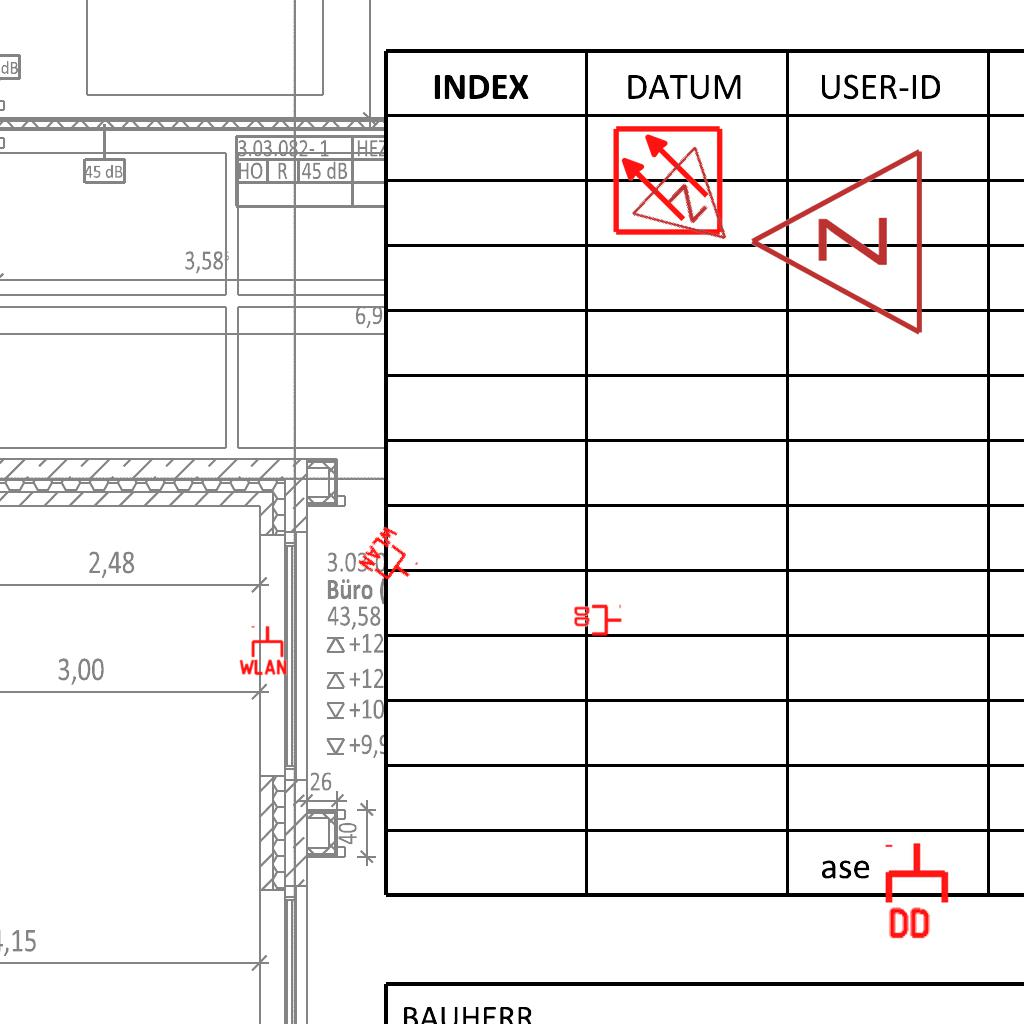Datenanschluss_zweifach: (884, 840, 953, 943), (572, 604, 623, 638)
RMO_Rauchmelder_optischer: (611, 124, 724, 237)
WLAN: (355, 521, 429, 595), (237, 624, 289, 676)
Zimmersignalleuchte: (737, 146, 937, 342), (625, 138, 765, 278)
